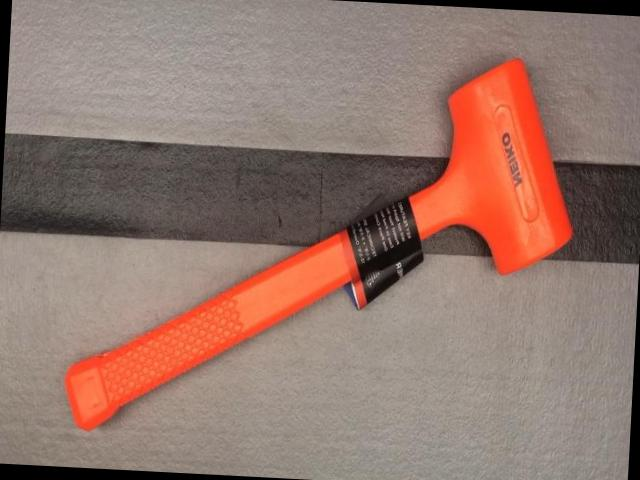hammer: (63, 35, 581, 456)
